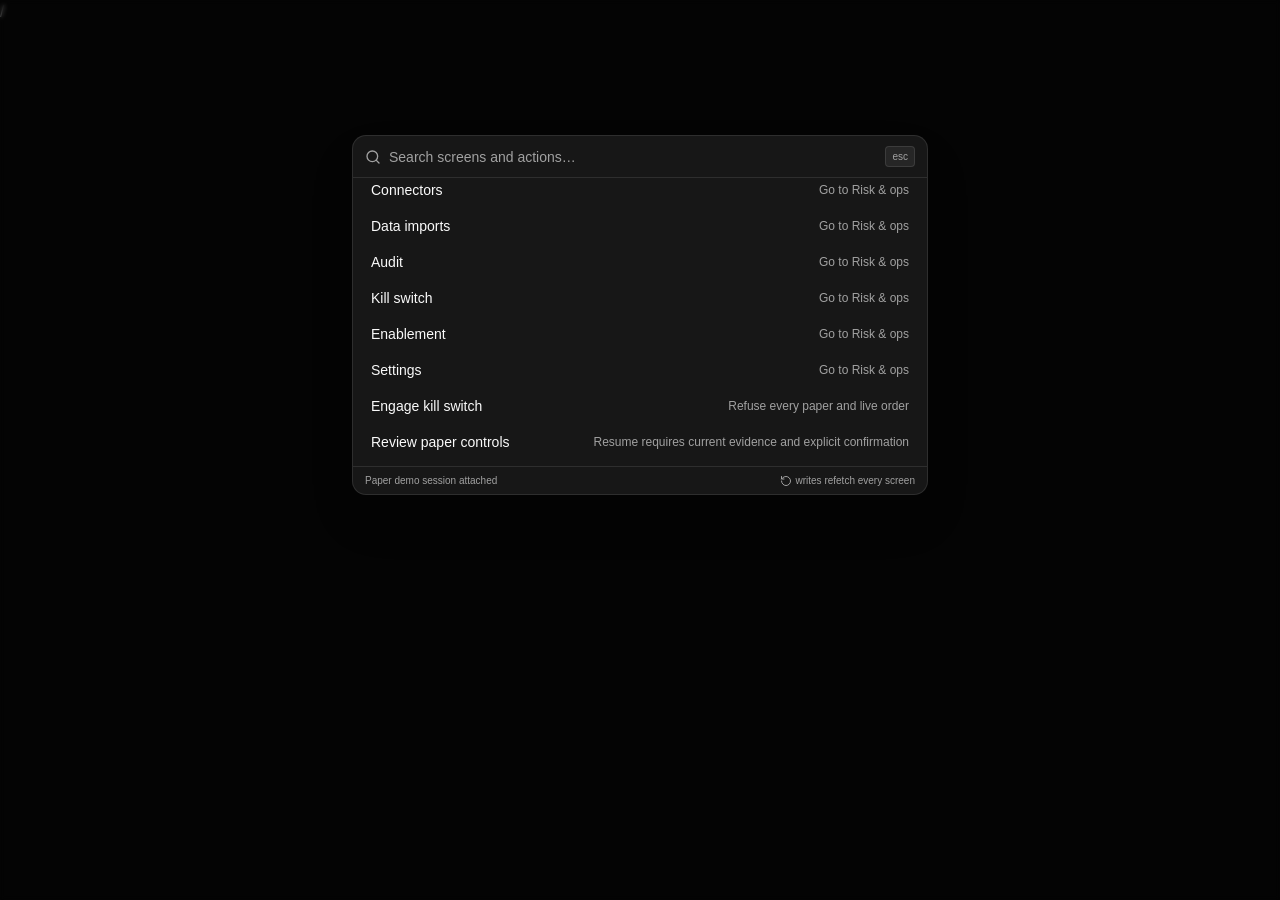
Test: hides old disarm/reset for configured and navigates to verified controls
(page scrolled)
Click the button "Review paper controls": (640, 442) top-left (359, 424), bottom-right (921, 460)
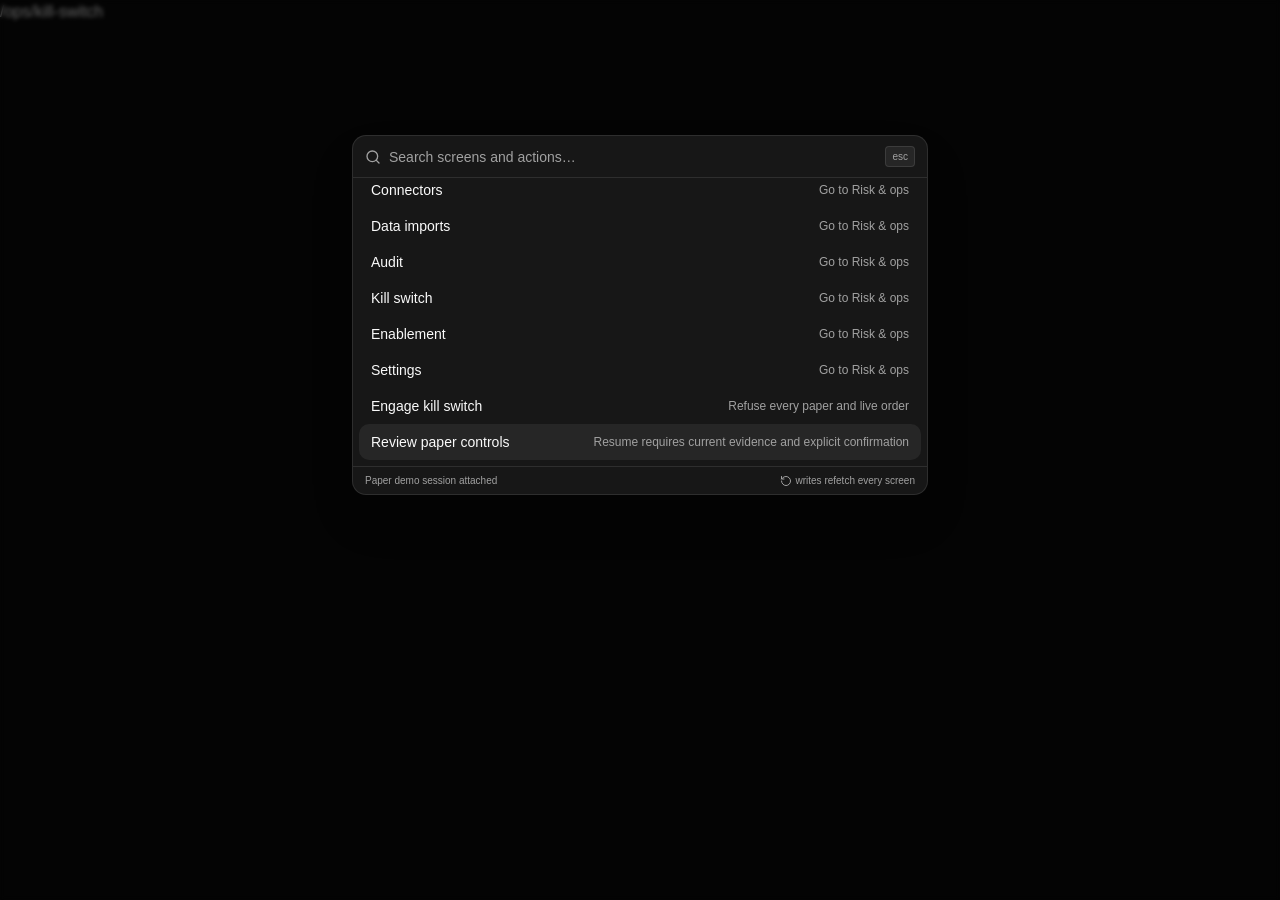
Now the text with test id "location" reads "/ops/kill-switch", box top-left (0, 3), bottom-right (103, 20)
